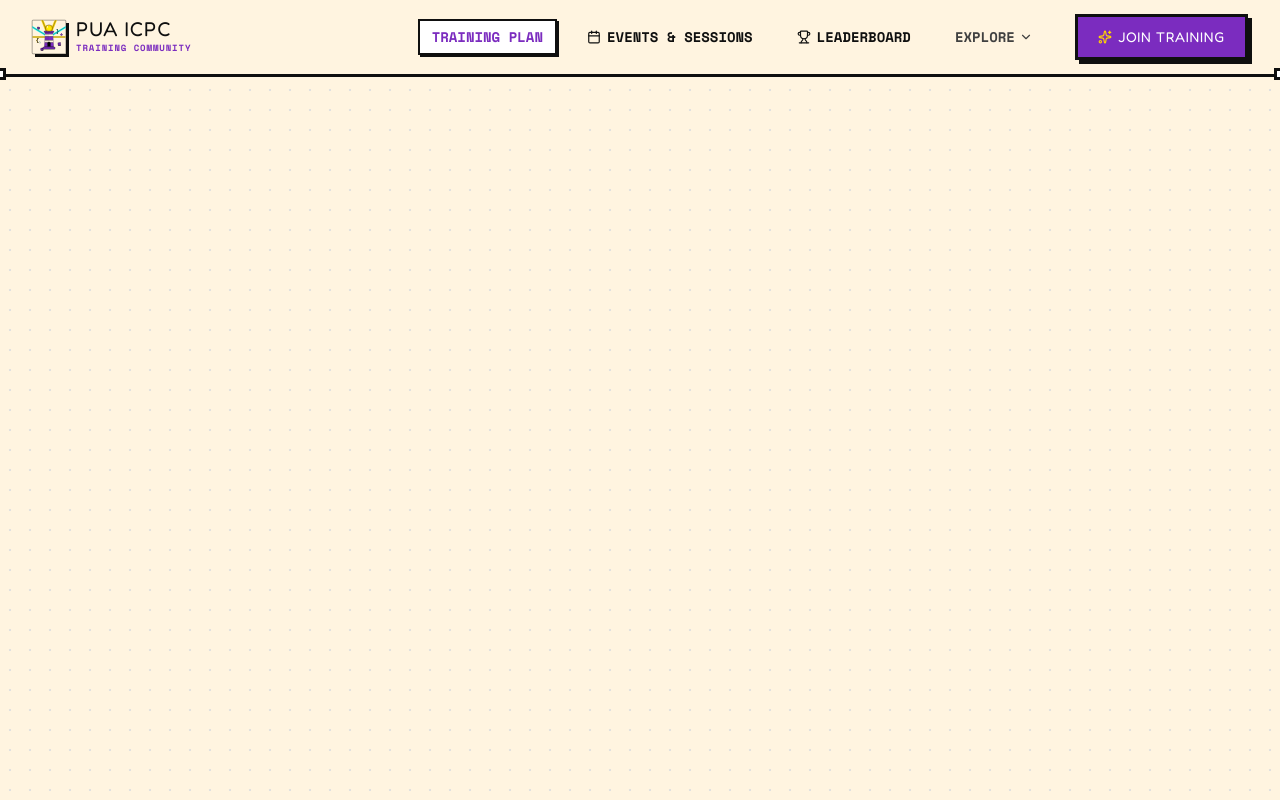
Test case: PuaNavbar › opens and closes the explore directory with every secondary hub
Click the button with aria-label "Toggle explore directory menu".
click(994, 37)  # box [941,19,1047,55]
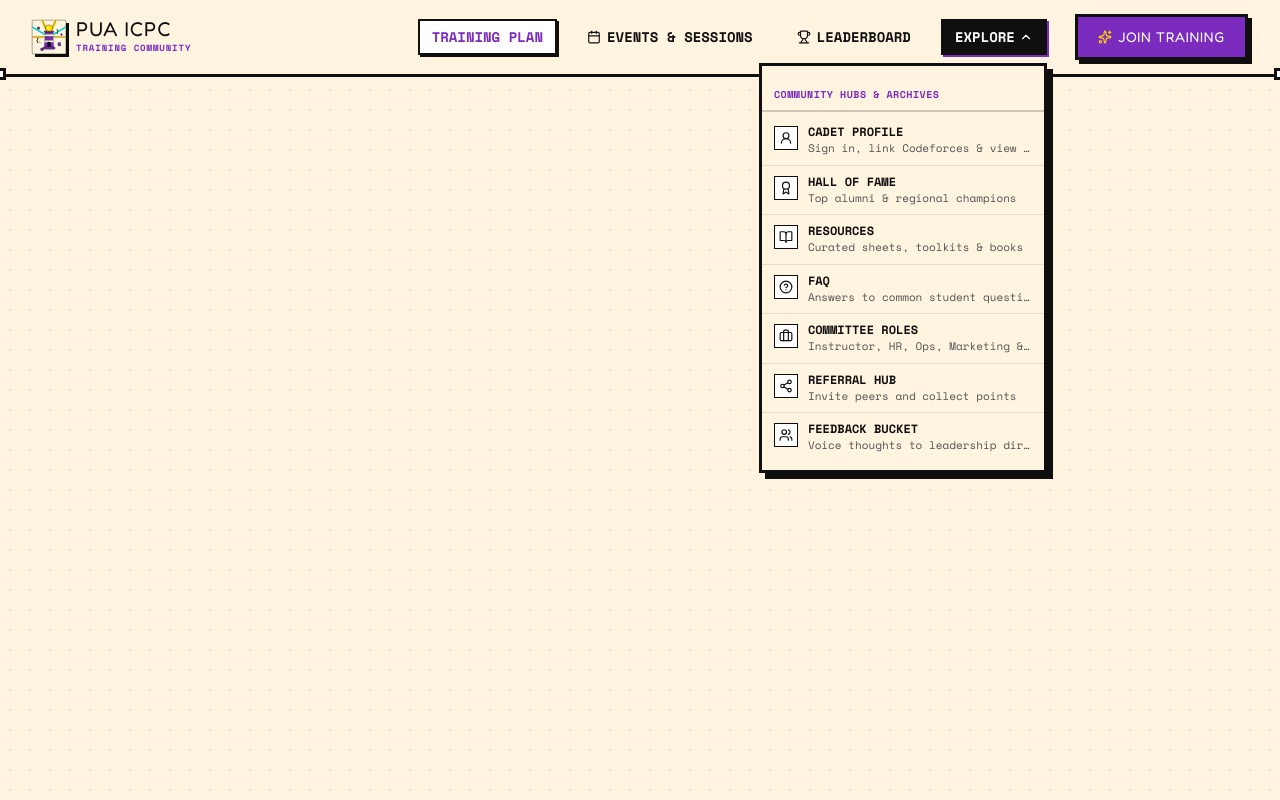
expect the button with aria-label "Toggle explore directory menu" is expanded: met
expect the menu is shown: met, box [759,63,1047,472]
Click the button with aria-label "Toggle explore directory menu".
click(994, 37)  # box [941,19,1047,55]
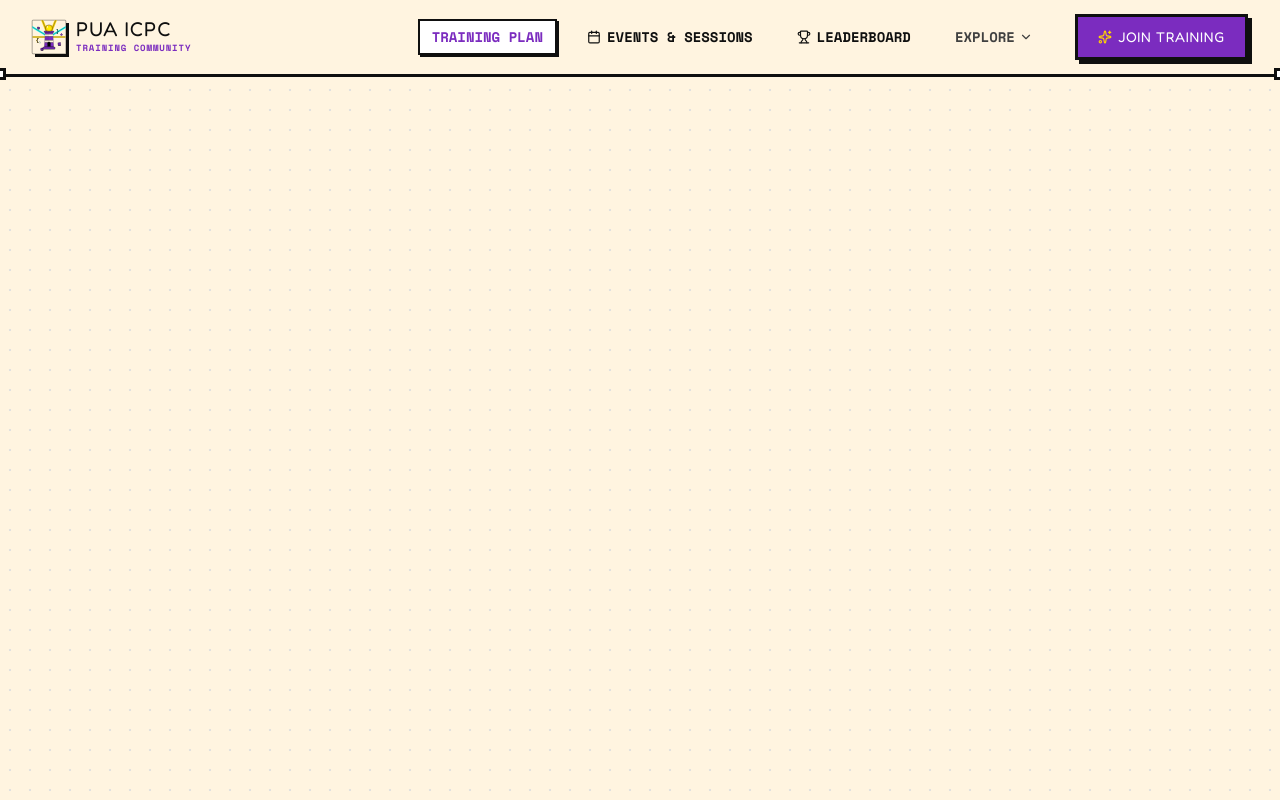
expect the menu is gone: met
